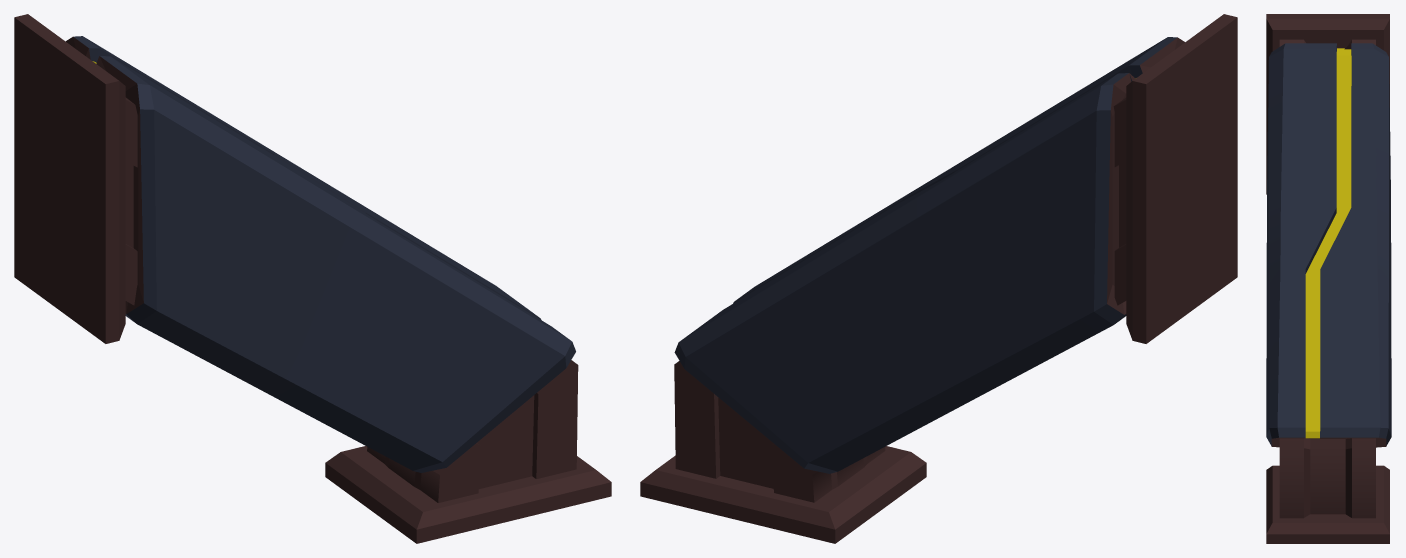
Rendered from Module_Ss_ass_CO1.FBX.
3 views of the same model, side by side, from view 1: azimuth 30°, elevation 25°; view 2: azimuth 150°, elevation 25°; view 3: azimuth 270°, elevation 25° (orthographic). The views are drawn at different scales.
Visible parts, largest first — view 1: Module_Ss_ass_CO1; view 2: Module_Ss_ass_CO1; view 3: Module_Ss_ass_CO1.
Part boxes in pixels (x1,y1,x2,y2): Module_Ss_ass_CO1: (14,14,611,543); Module_Ss_ass_CO1: (640,14,1237,543); Module_Ss_ass_CO1: (1266,14,1391,543).
Size of the model in its own units: 42.39 by 42.88 by 13.44.
